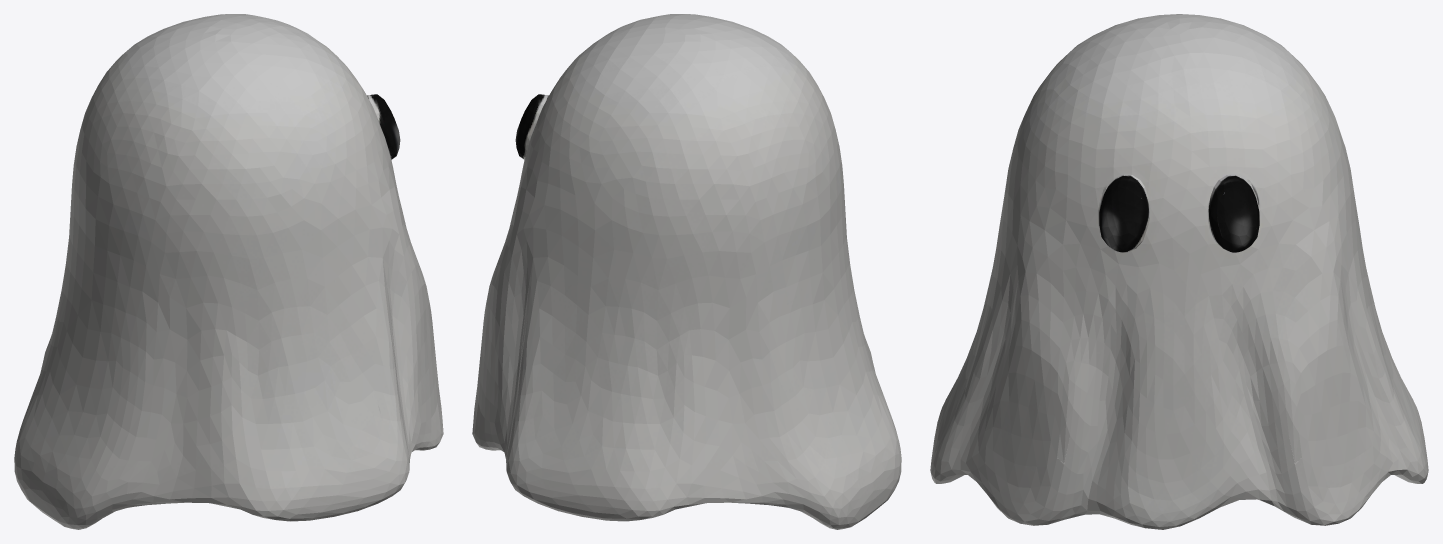
File: ghost.glb
The picture shows the model from 3 angles, left to right: view 1: azimuth 30°, elevation 25°; view 2: azimuth 150°, elevation 25°; view 3: azimuth 270°, elevation 25°; orthographic projection. The views are drawn at different scales.
Visible parts, largest first — view 1: tripo_node_76b7100f-d8d1-4e12-9293-79fa040ce730; view 2: tripo_node_76b7100f-d8d1-4e12-9293-79fa040ce730; view 3: tripo_node_76b7100f-d8d1-4e12-9293-79fa040ce730.
Part boxes in pixels (x1=…): tripo_node_76b7100f-d8d1-4e12-9293-79fa040ce730: x1=14, y1=14, x2=443, y2=529; tripo_node_76b7100f-d8d1-4e12-9293-79fa040ce730: x1=472, y1=14, x2=901, y2=529; tripo_node_76b7100f-d8d1-4e12-9293-79fa040ce730: x1=930, y1=14, x2=1428, y2=529.
Bounding box in the file's own units: 0.8286 × 0.9494 × 0.9.
Materials: 1 (1 with a texture image).
